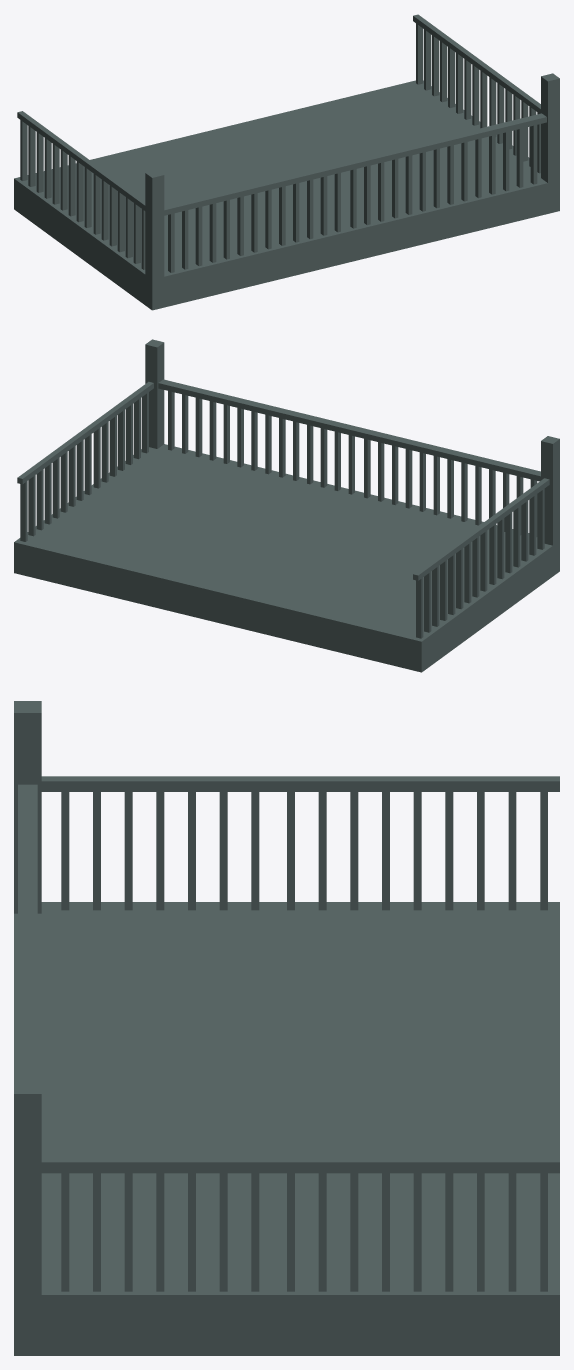
The model's file is balcony1_green.obj.
3 views of the same model, one above another, from view 1: azimuth 30°, elevation 25°; view 2: azimuth 150°, elevation 25°; view 3: azimuth 270°, elevation 25° (orthographic). The views are drawn at different scales.
Size of the model in its own units: 23.5 by 7.3 by 13.8.
1 material, 1 textured.
